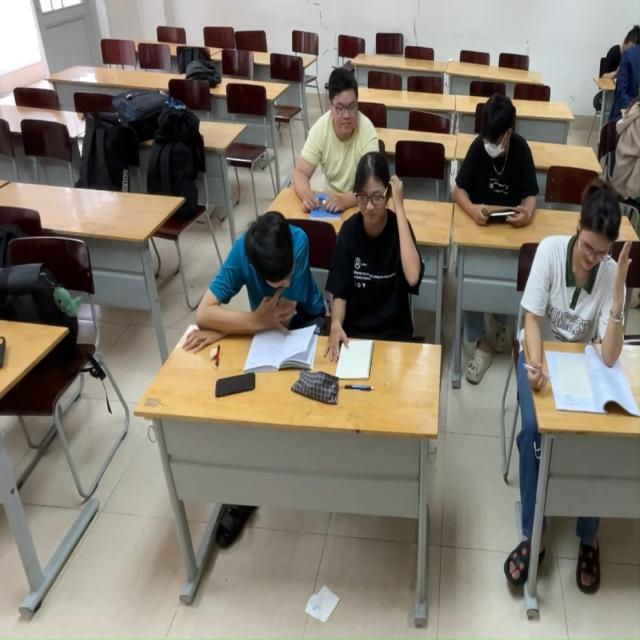raise_hand: (544, 184, 640, 422)
read: (331, 174, 423, 389), (202, 211, 315, 382)
